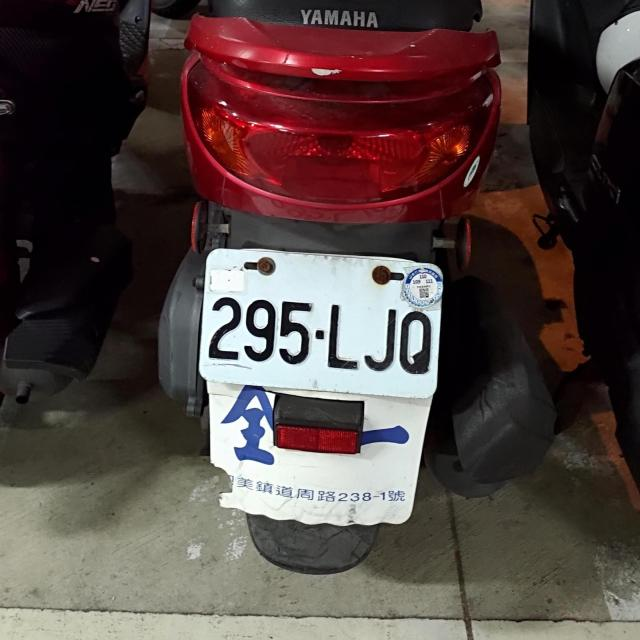W: (197, 243, 446, 402)
